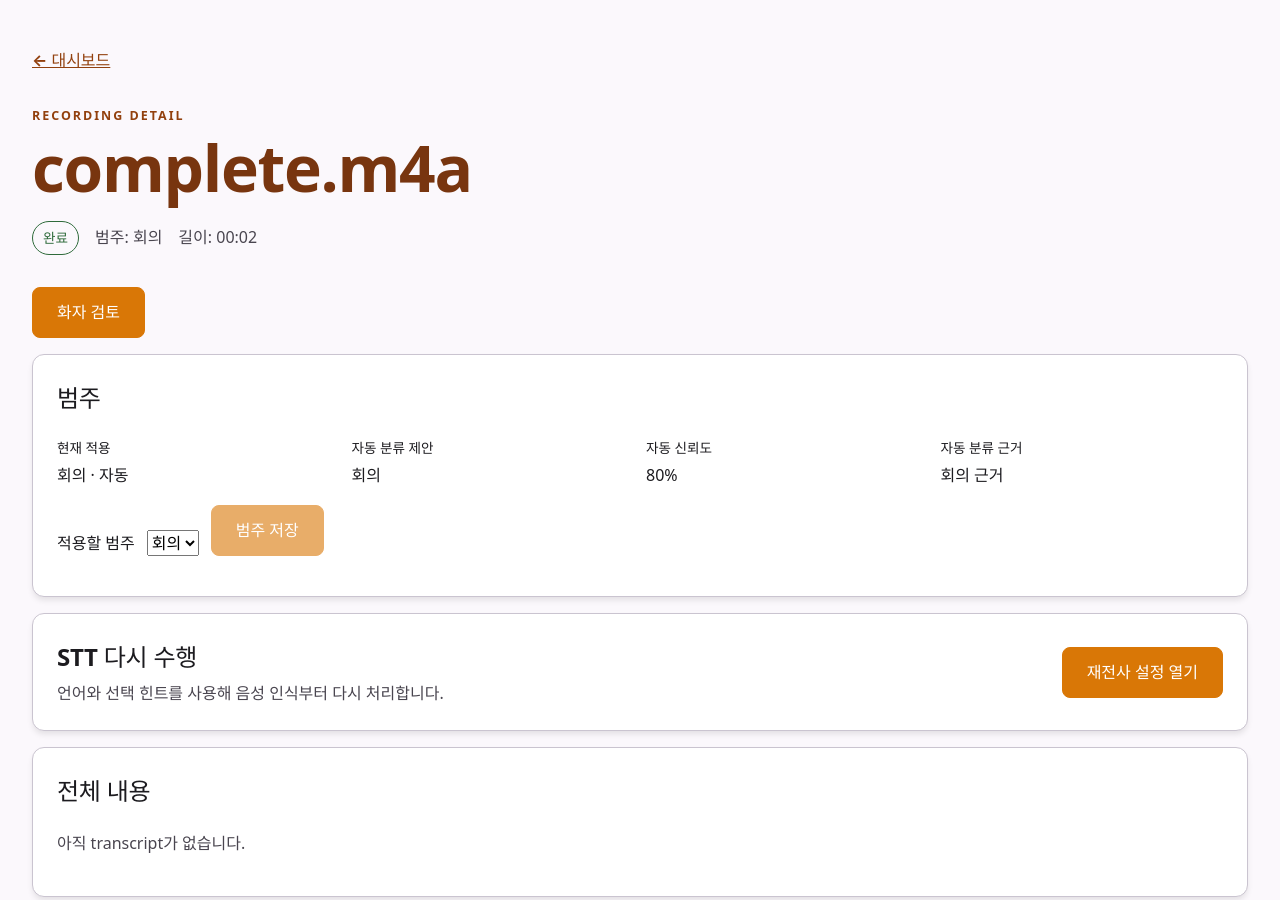
Test: 범주 revision 충돌 시 덮어쓰지 않고 최신 내용을 다시 불러온다
The width and height of the screenshot is (1280, 900).
Select "강의" in the dropdown labelled "적용할 범주" at (173, 543), box x1=147 y1=530 x2=199 y2=556
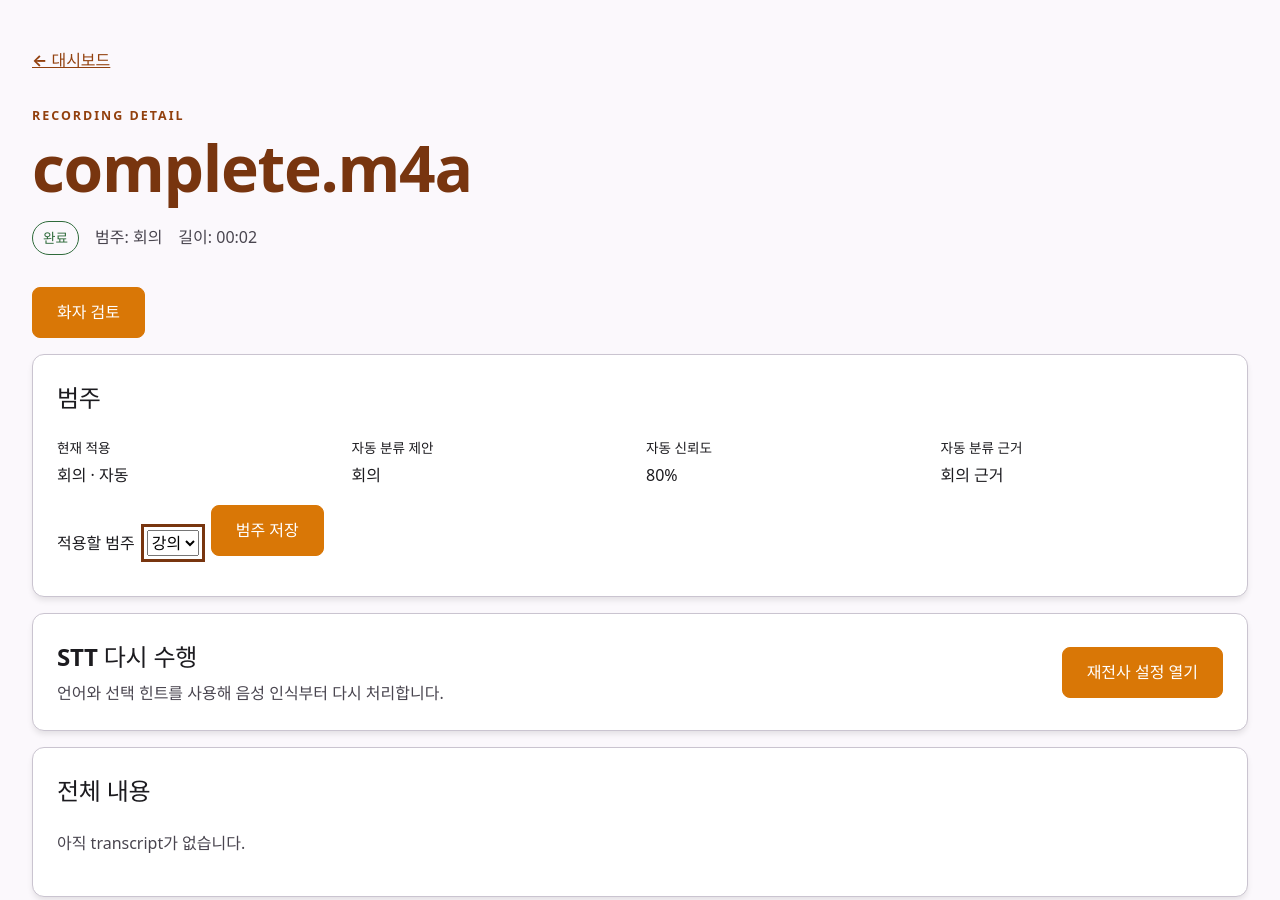
Click the button "범주 저장" at (267, 530), box x1=211 y1=505 x2=324 y2=556
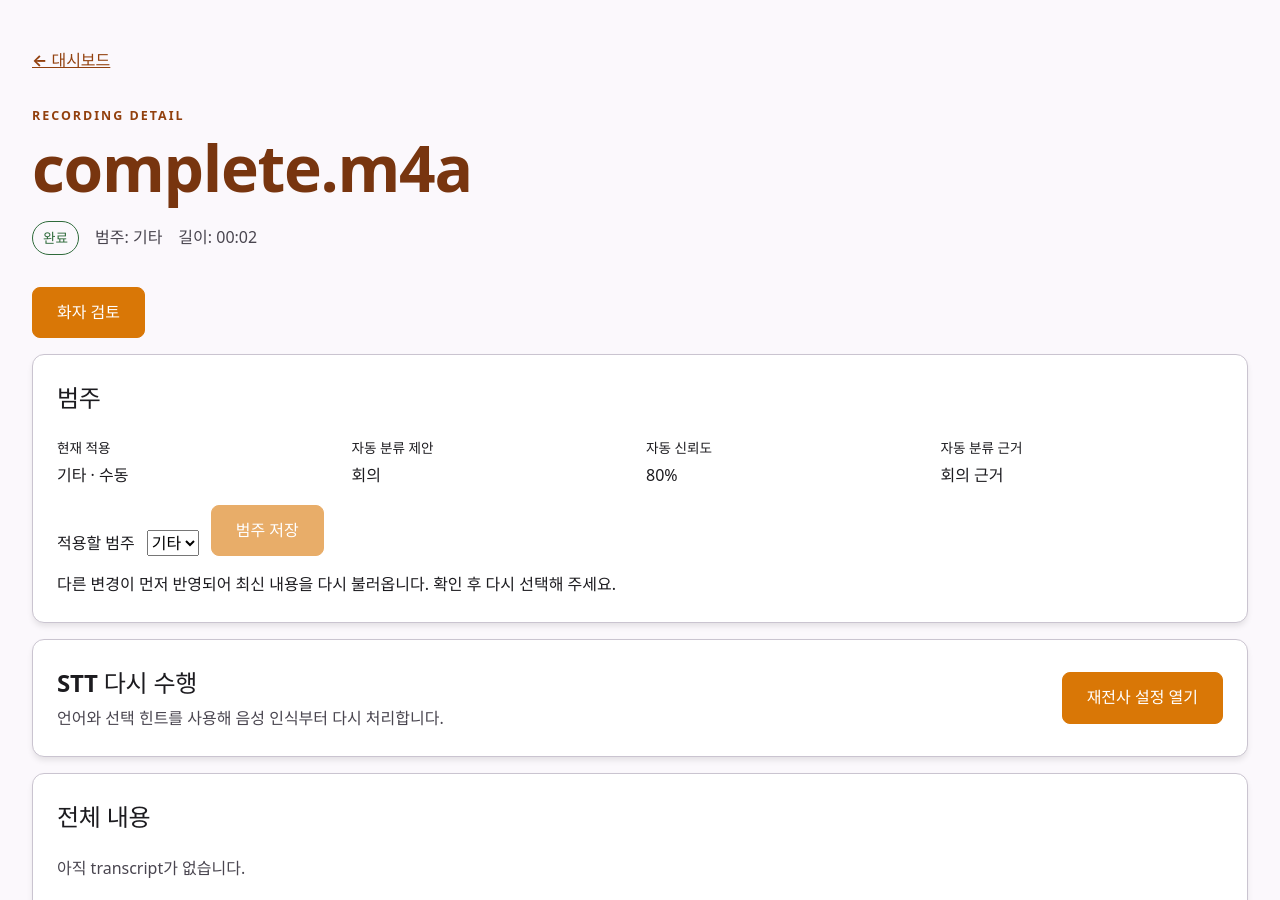
Expected: the text "다른 변경이 먼저 반영되어 최신 내용을 다시 불러옵니다." is shown, x1=57 y1=573 x2=616 y2=595
Expected: the text "기타 · 수동" is shown, x1=57 y1=464 x2=128 y2=486
